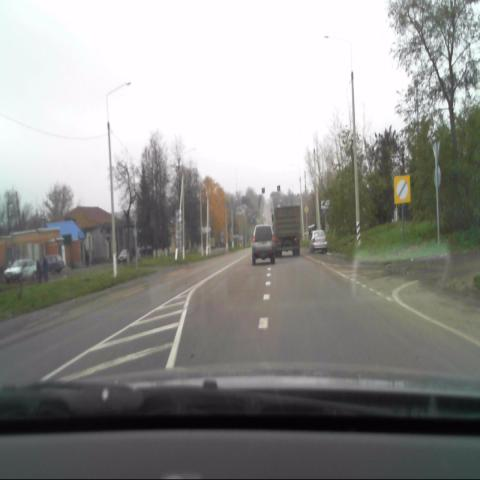3_31: (394, 174, 411, 203)
